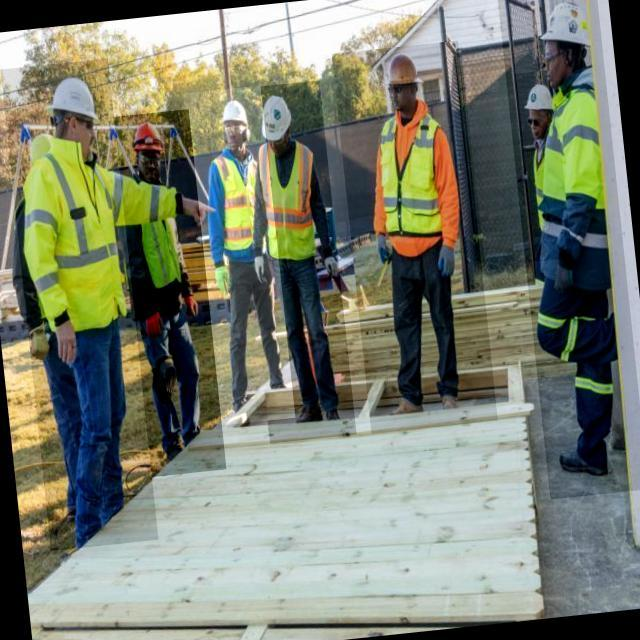Helmet: (44, 74, 101, 129), (537, 0, 594, 53), (376, 55, 432, 94), (257, 93, 295, 142), (217, 97, 251, 131), (132, 120, 165, 155), (523, 85, 554, 116)
Human: (1, 58, 159, 551), (497, 0, 640, 499), (332, 41, 499, 434), (232, 80, 356, 443), (110, 110, 226, 478), (183, 85, 295, 425), (513, 70, 572, 263)
Safety Boot: (557, 446, 610, 481), (291, 402, 323, 427), (389, 395, 426, 416), (439, 391, 462, 409)
Safety Vest: (14, 126, 195, 335), (518, 82, 615, 297), (377, 112, 454, 240), (256, 137, 326, 264), (209, 151, 268, 255), (139, 214, 186, 291)
